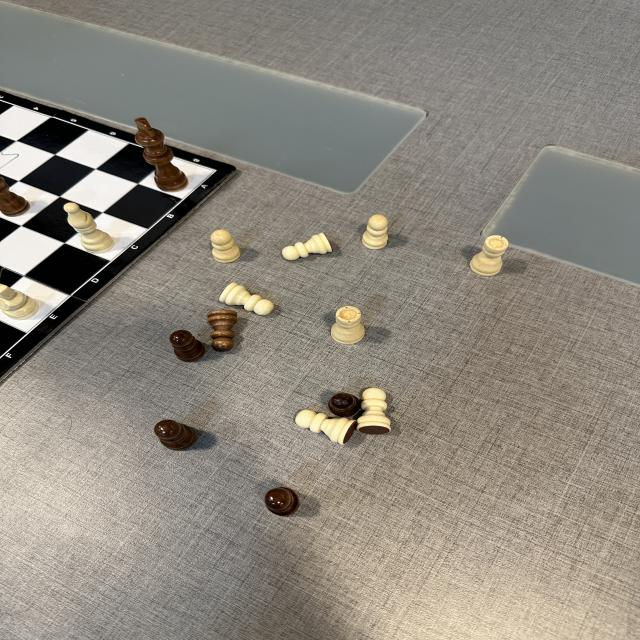Black-King: (134, 118, 188, 191)
Black-Pawn: (208, 310, 238, 353), (155, 420, 196, 450), (170, 330, 205, 362), (265, 486, 300, 516), (330, 393, 360, 417)
White-Bishop: (64, 202, 114, 252)
White-Knight: (0, 283, 39, 320)
White-Pawn: (295, 409, 357, 445), (219, 281, 274, 315), (356, 388, 391, 434), (282, 233, 333, 260), (210, 229, 241, 263), (361, 215, 389, 249)
White-Rook: (470, 236, 508, 276), (332, 306, 364, 344)
